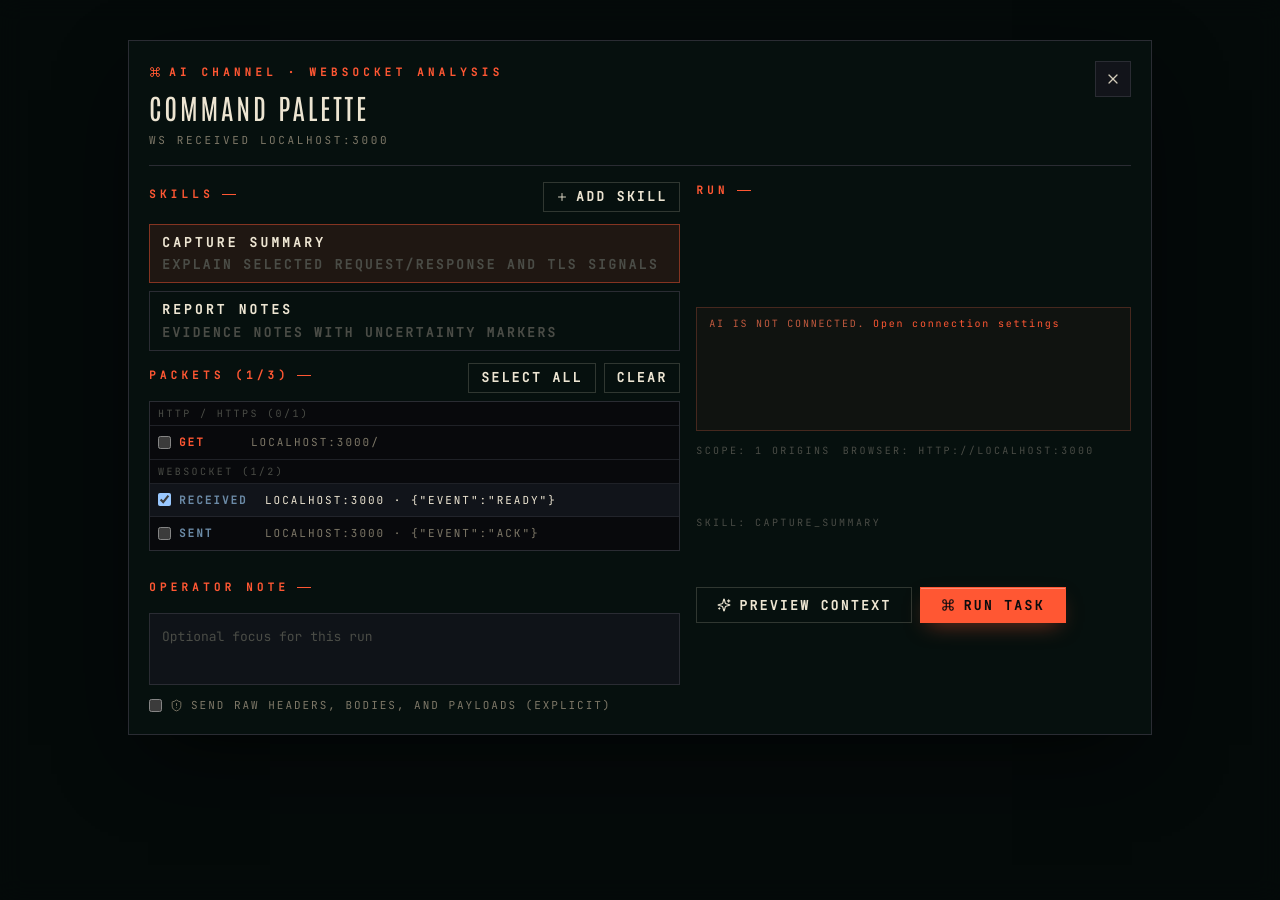
Test: CommandPalette › supports selecting websocket packets for websocket tasks
Check: the text "Packets (1/3)" is shown, box [149,367,311,389]
Check: the checkbox with test id "aiWebSocketCheckbox-ws-1" is checked, box [158,493,171,506]
Click the checkbox with test id "aiWebSocketCheckbox-ws-2" at (164, 533), box [158,527,171,540]
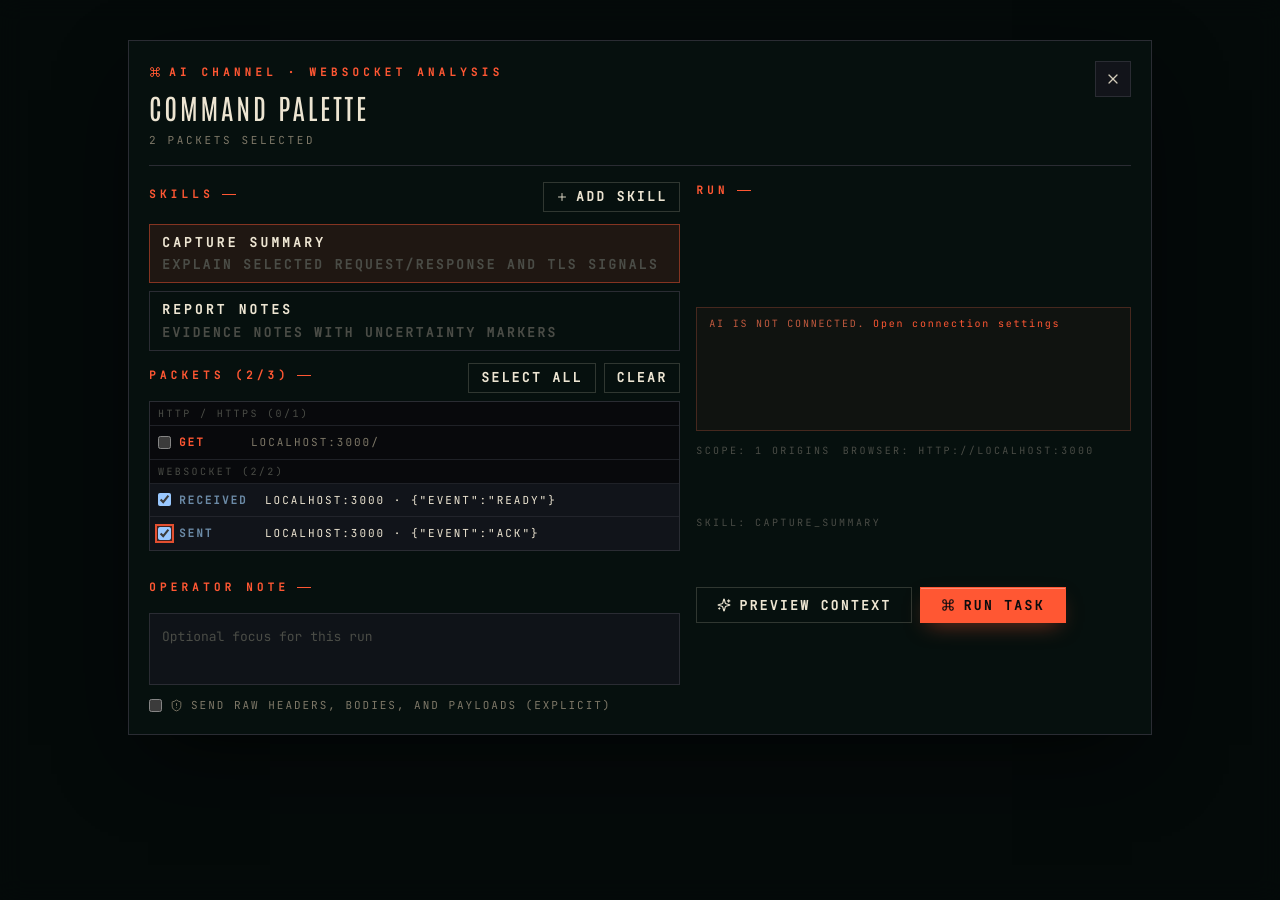
Check: the text "Packets (2/3)" is shown, box [149,367,311,389]
Click the button with test id "aiSelectAllPackets" at (532, 378), box [468,363,596,393]
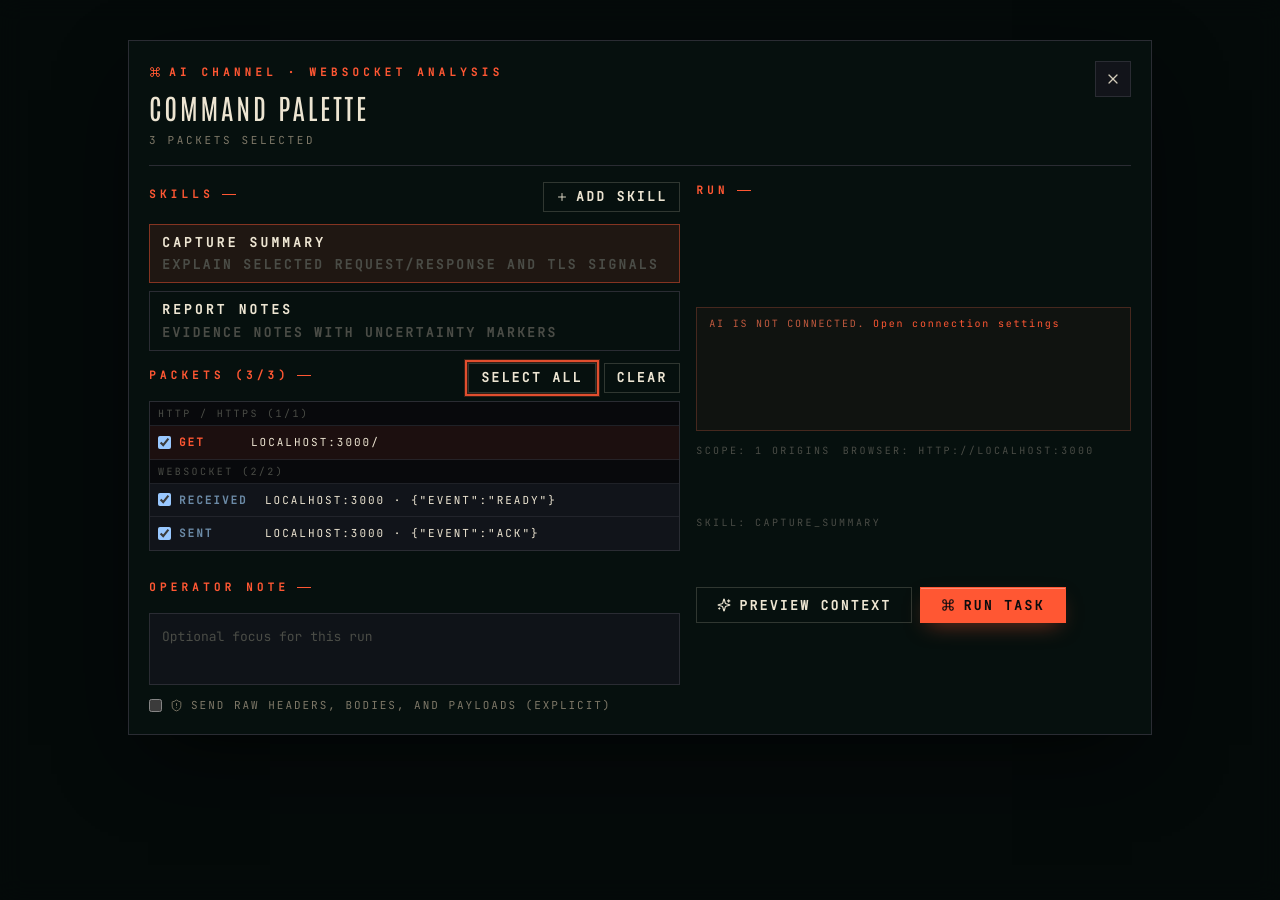
Check: the text "Packets (3/3)" is shown, box [149,367,311,389]
